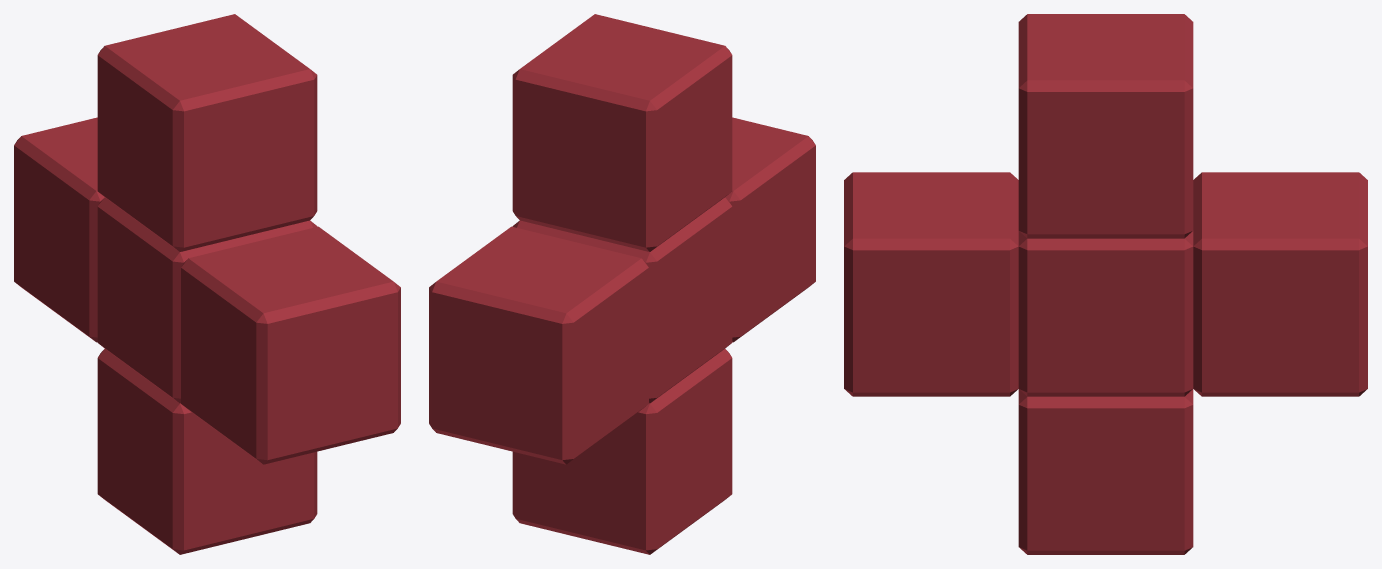
3 views of the same model, side by side, from view 1: azimuth 30°, elevation 25°; view 2: azimuth 150°, elevation 25°; view 3: azimuth 270°, elevation 25° (orthographic). The views are drawn at different scales.
Parts seen in each view (by area): view 1: geo1; view 2: geo1; view 3: geo1.
Part boxes in pixels (bbox=[...]): geo1: bbox=[14, 14, 400, 554]; geo1: bbox=[429, 14, 815, 554]; geo1: bbox=[844, 14, 1367, 554].
Bounding box in the file's own units: 1 × 3 × 3.
